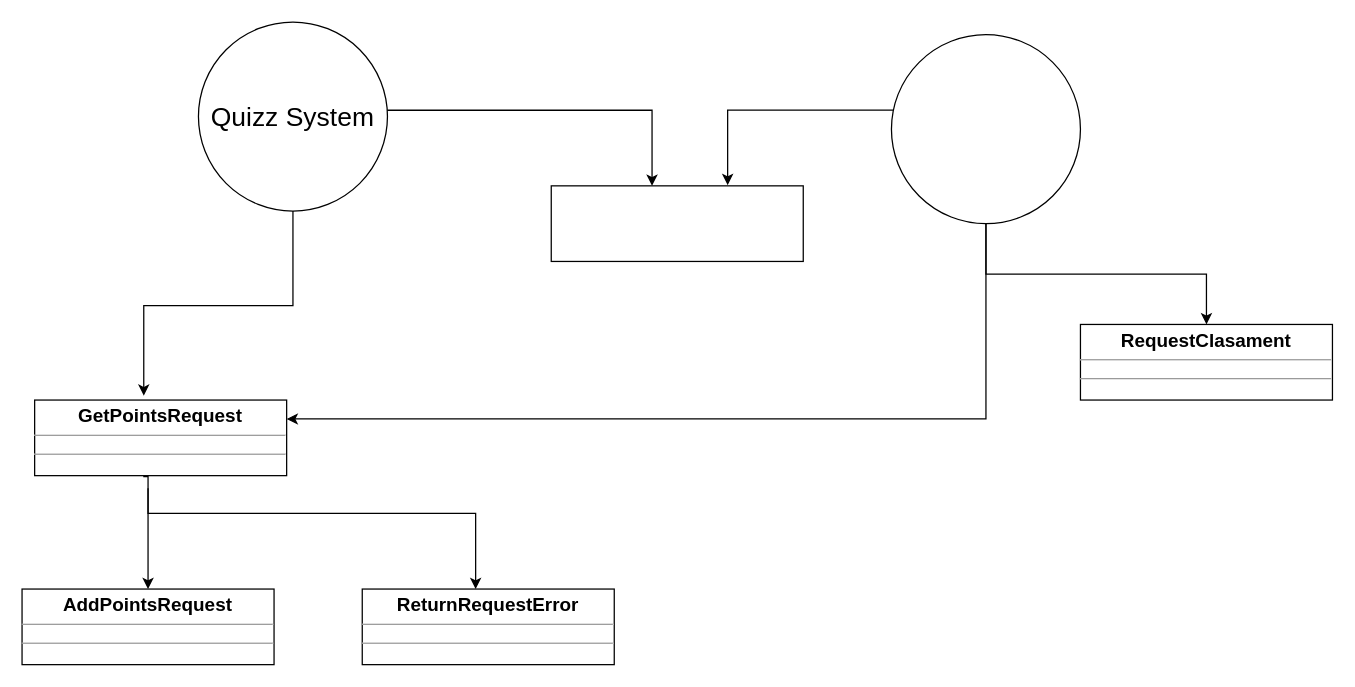
Some shapes in this 1355 by 687 pixel diagram are drawn without their labels. Here are the shapes that lost their labels. From the top down, the centre of each, then its label:
At pixel 985 128: "Clasament System".
At pixel 676 223: "Database Connection".
